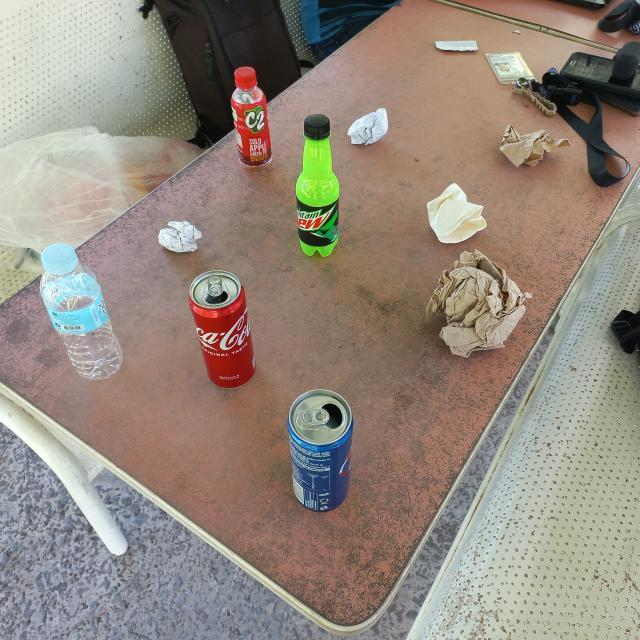recyclable waste: (417, 244, 539, 363), (34, 237, 130, 385), (184, 264, 261, 394), (284, 383, 358, 515), (292, 109, 342, 261), (227, 61, 278, 173), (420, 178, 494, 249), (494, 119, 578, 174), (342, 104, 396, 150), (154, 214, 208, 256)
